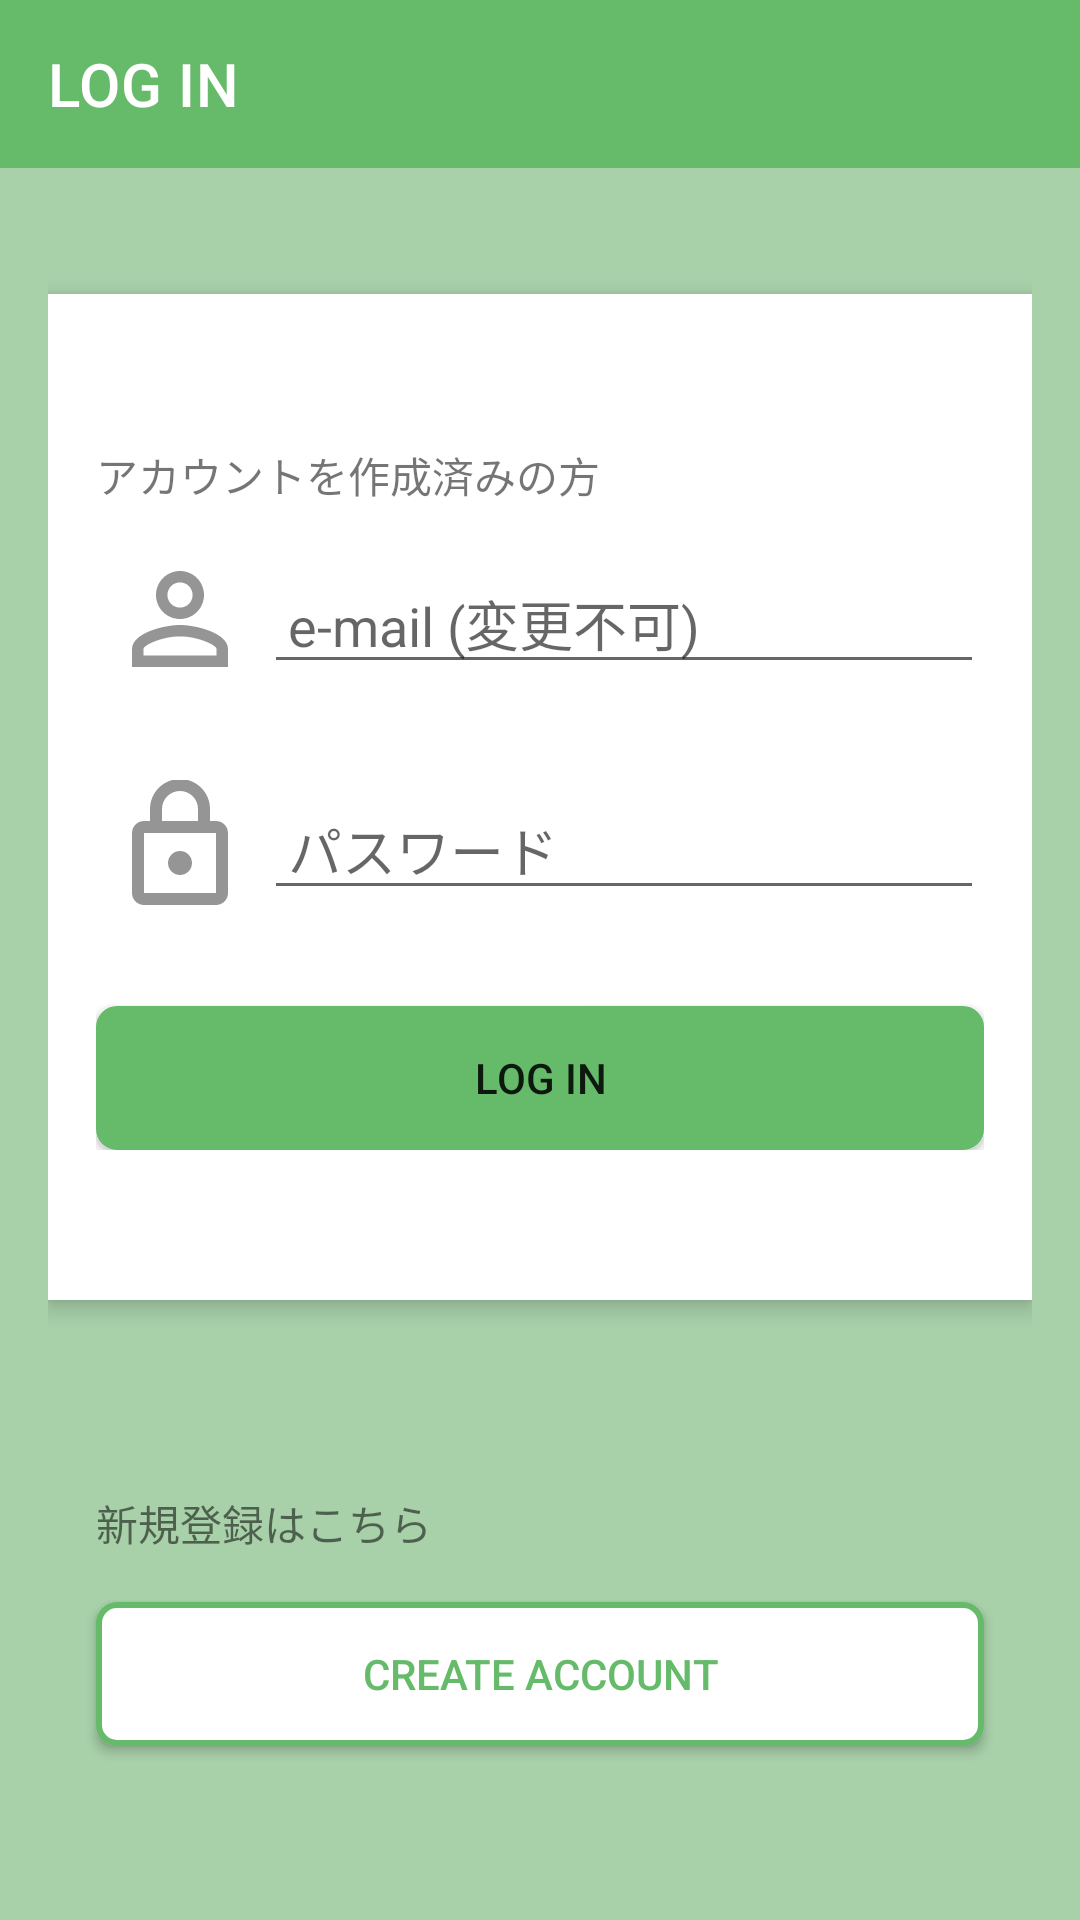

Where icons sit on this 1080 × 1920 app screen, as (x1, y1, x2, y2):
人型の画像: (132, 571, 228, 667)
鍵の画像: (132, 780, 228, 905)
